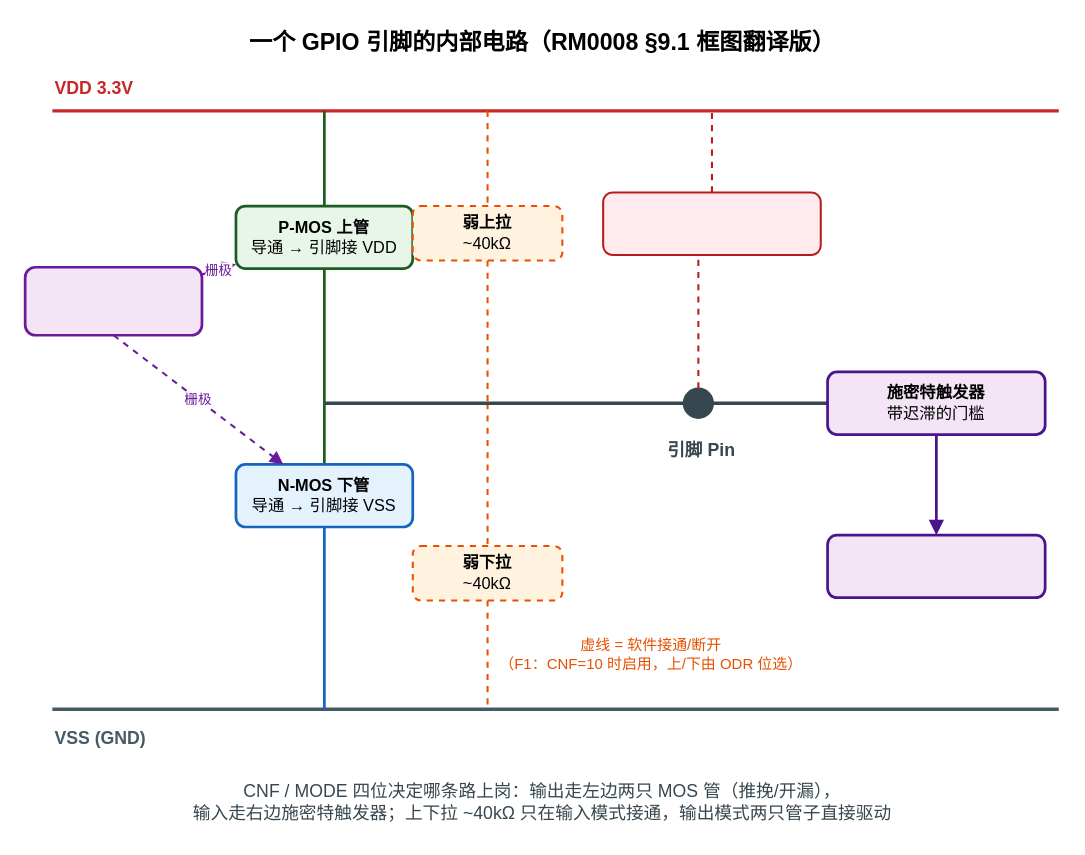
Image size: 1085x855. Some labels were removed from this diagram. Each missing label, with the box of its shape:
ODR / BSRR （写）: (23, 265, 203, 336)
保护二极管 ×2 钳位到 VDD / VSS: (602, 191, 821, 255)
输入锁存 → IDR （读）: (826, 533, 1046, 598)
